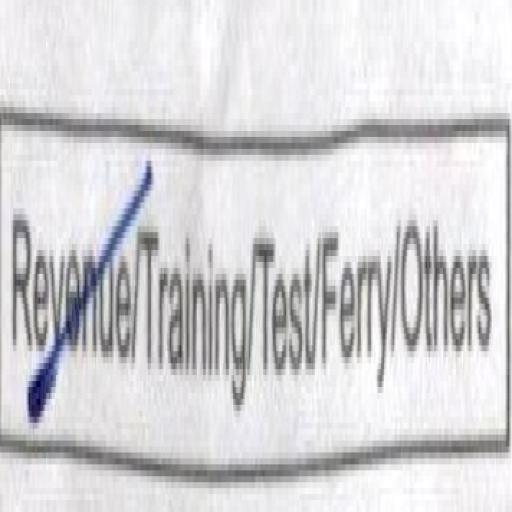check: (0, 47, 139, 512)
